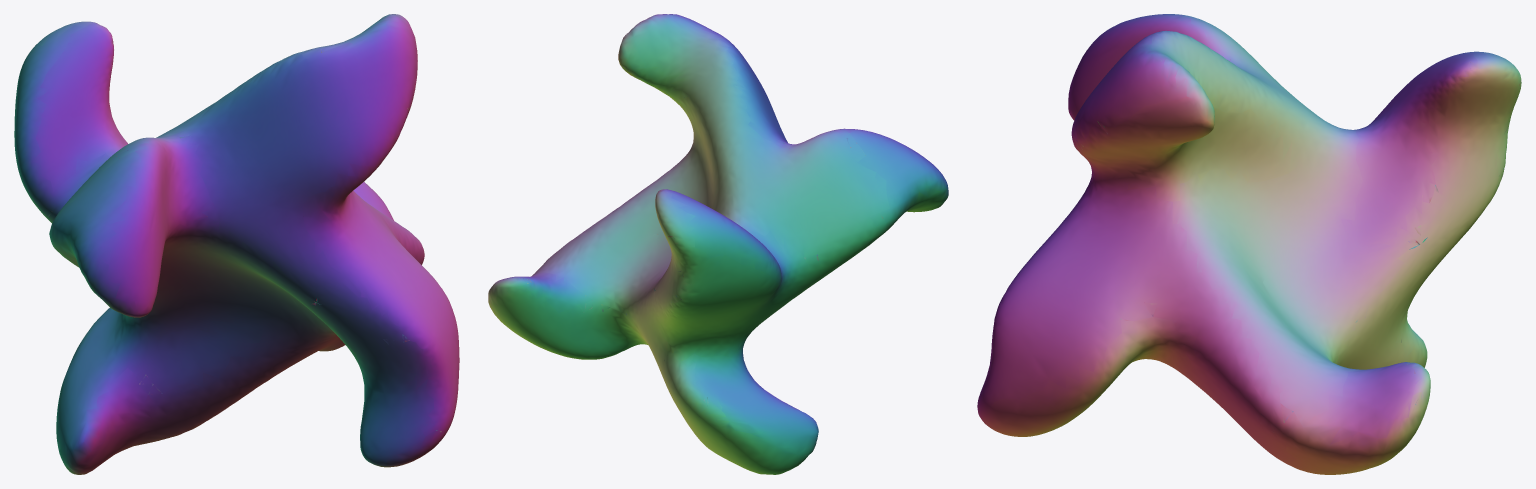
The model's file is deformed_ball.glb.
3 views of the same model, side by side, from view 1: azimuth 30°, elevation 25°; view 2: azimuth 150°, elevation 25°; view 3: azimuth 270°, elevation 25° (orthographic). The views are drawn at different scales.
Visible parts, largest first — view 1: Object_2; view 2: Object_2; view 3: Object_2.
Boxes of the visible parts, x1=… form: Object_2: x1=14, y1=14, x2=459, y2=474; Object_2: x1=488, y1=14, x2=948, y2=474; Object_2: x1=977, y1=14, x2=1521, y2=474.
Size of the model in its own units: 3.14 by 3.14 by 3.15.
1 material, 1 textured.
